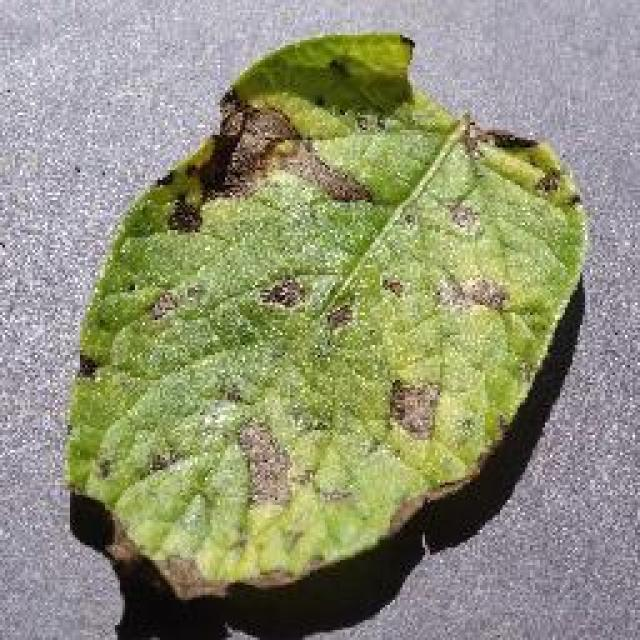Potato___Early_blight: (64, 32, 595, 604)
